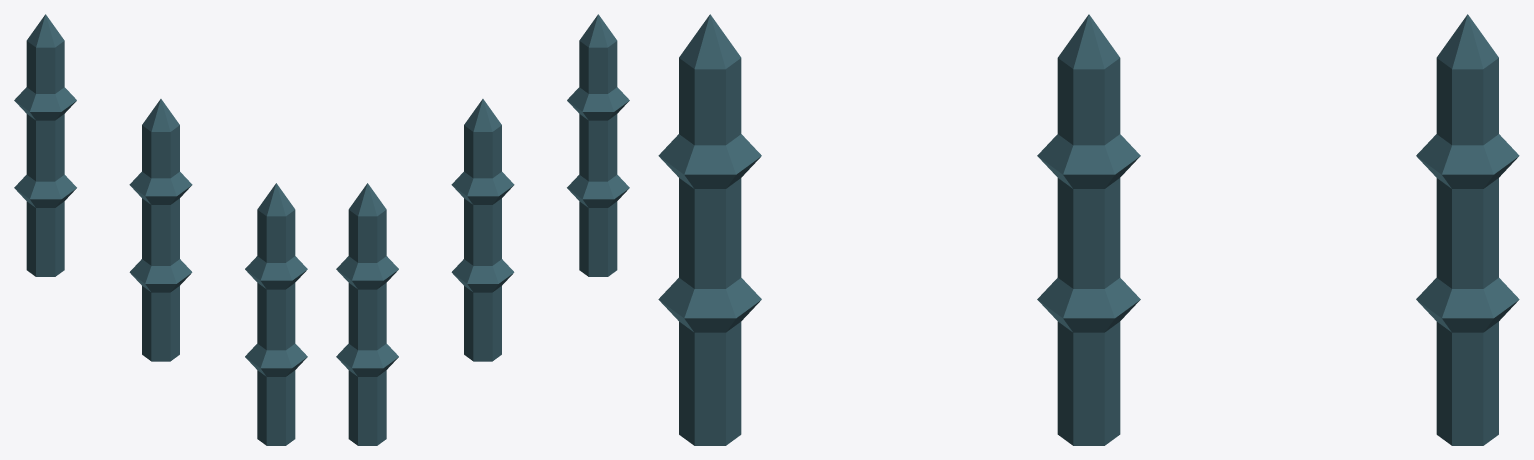
The picture shows the model from 3 angles, left to right: view 1: azimuth 30°, elevation 25°; view 2: azimuth 150°, elevation 25°; view 3: azimuth 270°, elevation 25°; orthographic projection. The views are drawn at different scales.
Parts seen in each view (by area): view 1: Cylinder1539_metal_0, Cylinder1537_metal_0, Cylinder1538_metal_0; view 2: Cylinder1537_metal_0, Cylinder1539_metal_0, Cylinder1538_metal_0; view 3: Cylinder1538_metal_0, Cylinder1537_metal_0, Cylinder1539_metal_0.
Part boxes in pixels (x1,y1,x2,y2): Cylinder1539_metal_0: (245, 183, 307, 445); Cylinder1537_metal_0: (14, 14, 76, 276); Cylinder1538_metal_0: (129, 99, 192, 361); Cylinder1537_metal_0: (336, 183, 398, 445); Cylinder1539_metal_0: (567, 14, 629, 276); Cylinder1538_metal_0: (451, 99, 514, 361); Cylinder1538_metal_0: (1037, 14, 1140, 445); Cylinder1537_metal_0: (1416, 14, 1519, 445); Cylinder1539_metal_0: (658, 14, 761, 445).
Bounding box in the file's own units: 16.13 × 83.3 × 155.
